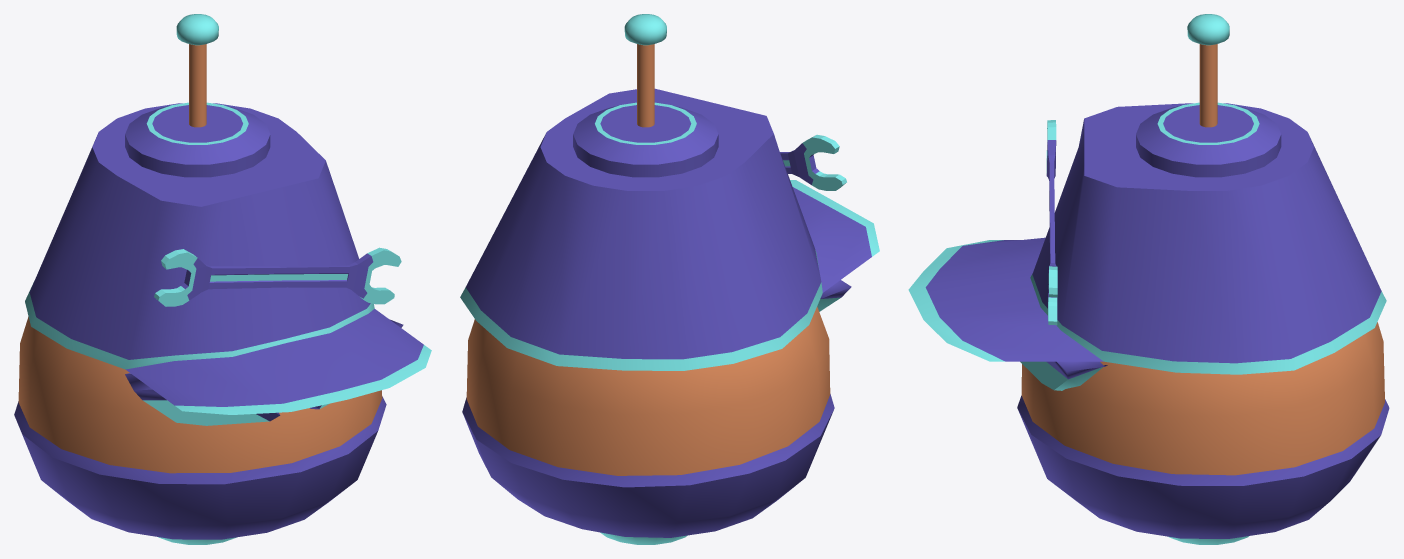
Rendered from LilyBot.fbx.
3 renders of one model, left to right at view 1: azimuth 30°, elevation 25°; view 2: azimuth 150°, elevation 25°; view 3: azimuth 270°, elevation 25°, orthographic.
Parts seen in each view (by area): view 1: Sphere; view 2: Sphere; view 3: Sphere.
Boxes of the visible parts, box(x1,y1,x2,y2) form: Sphere: box(14, 14, 431, 544); Sphere: box(460, 14, 879, 544); Sphere: box(908, 14, 1389, 544).
Size of the model in its own units: 112 by 169 by 146.
